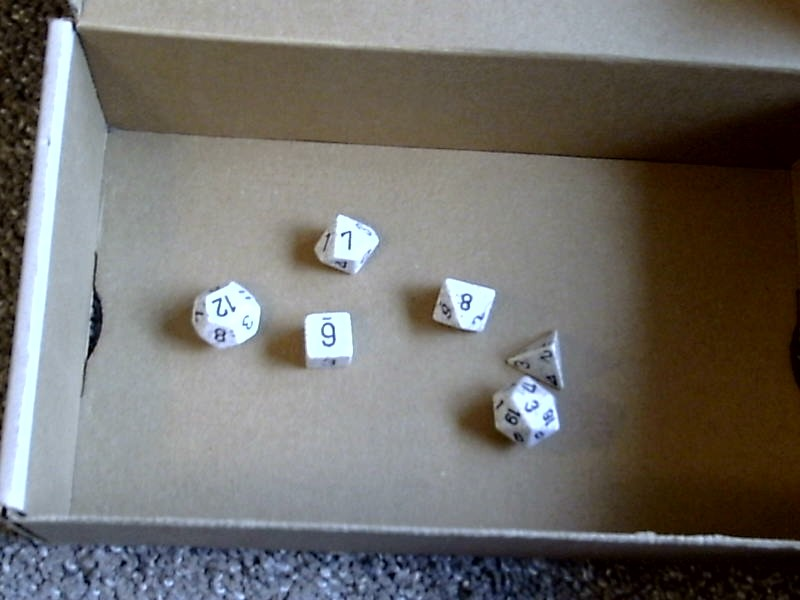d10 7: (305, 211, 384, 279)
d12 12: (184, 277, 263, 356)
d20 3: (484, 377, 570, 452)
d4 2: (501, 318, 572, 392)
d6 6: (290, 299, 364, 370)
d8 8: (423, 264, 494, 339)
